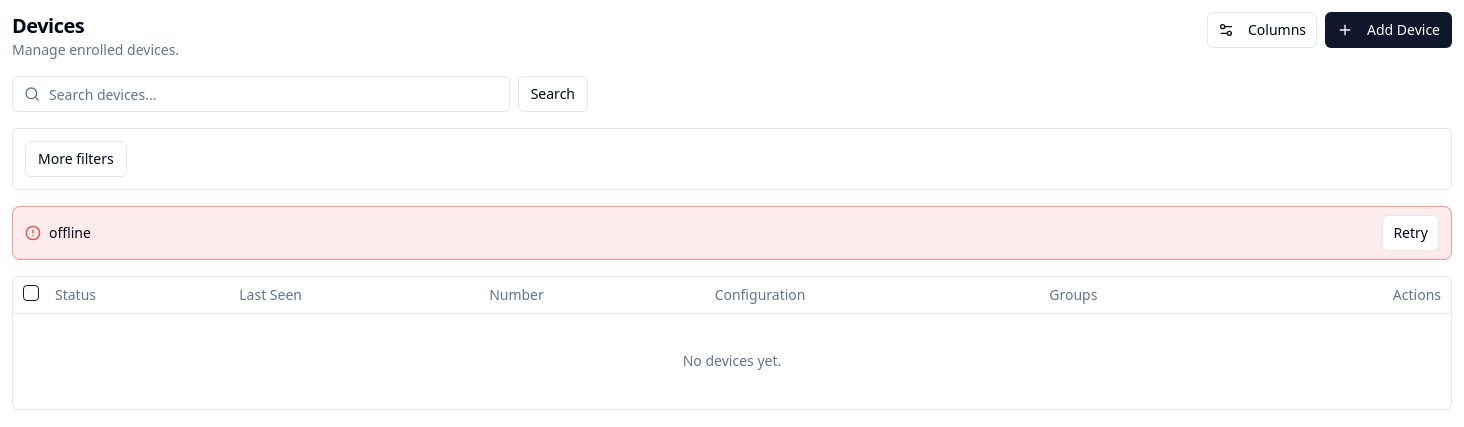
Test: DevicesPage › shows error banner with retry
Expected: the text "offline" is shown, [49,223,91,242]
Click the button "Retry" at [1411, 233], box [1382,215,1439,251]
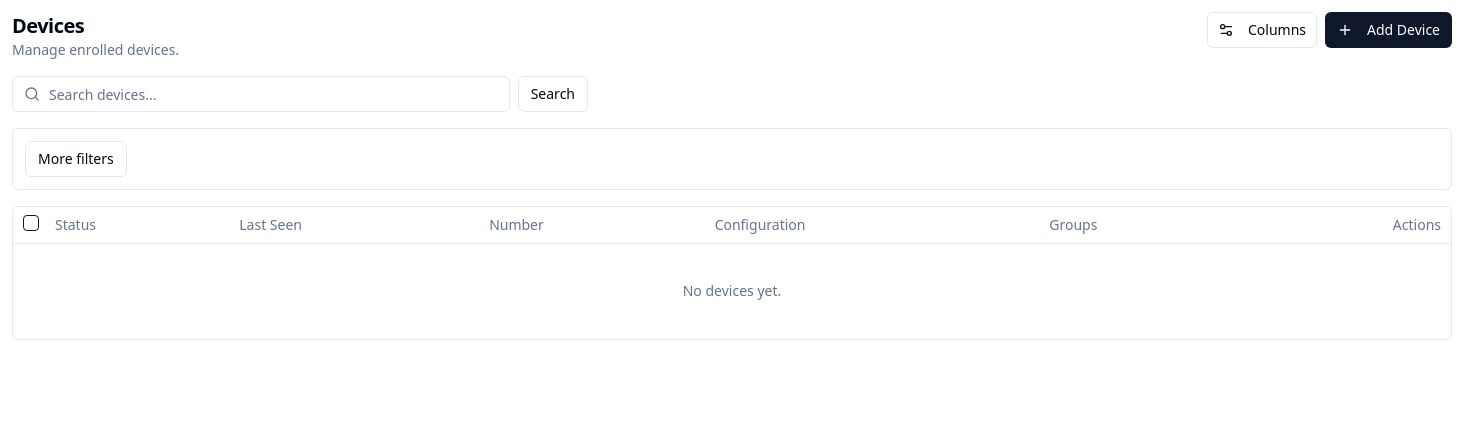
Now the text "offline" is gone
